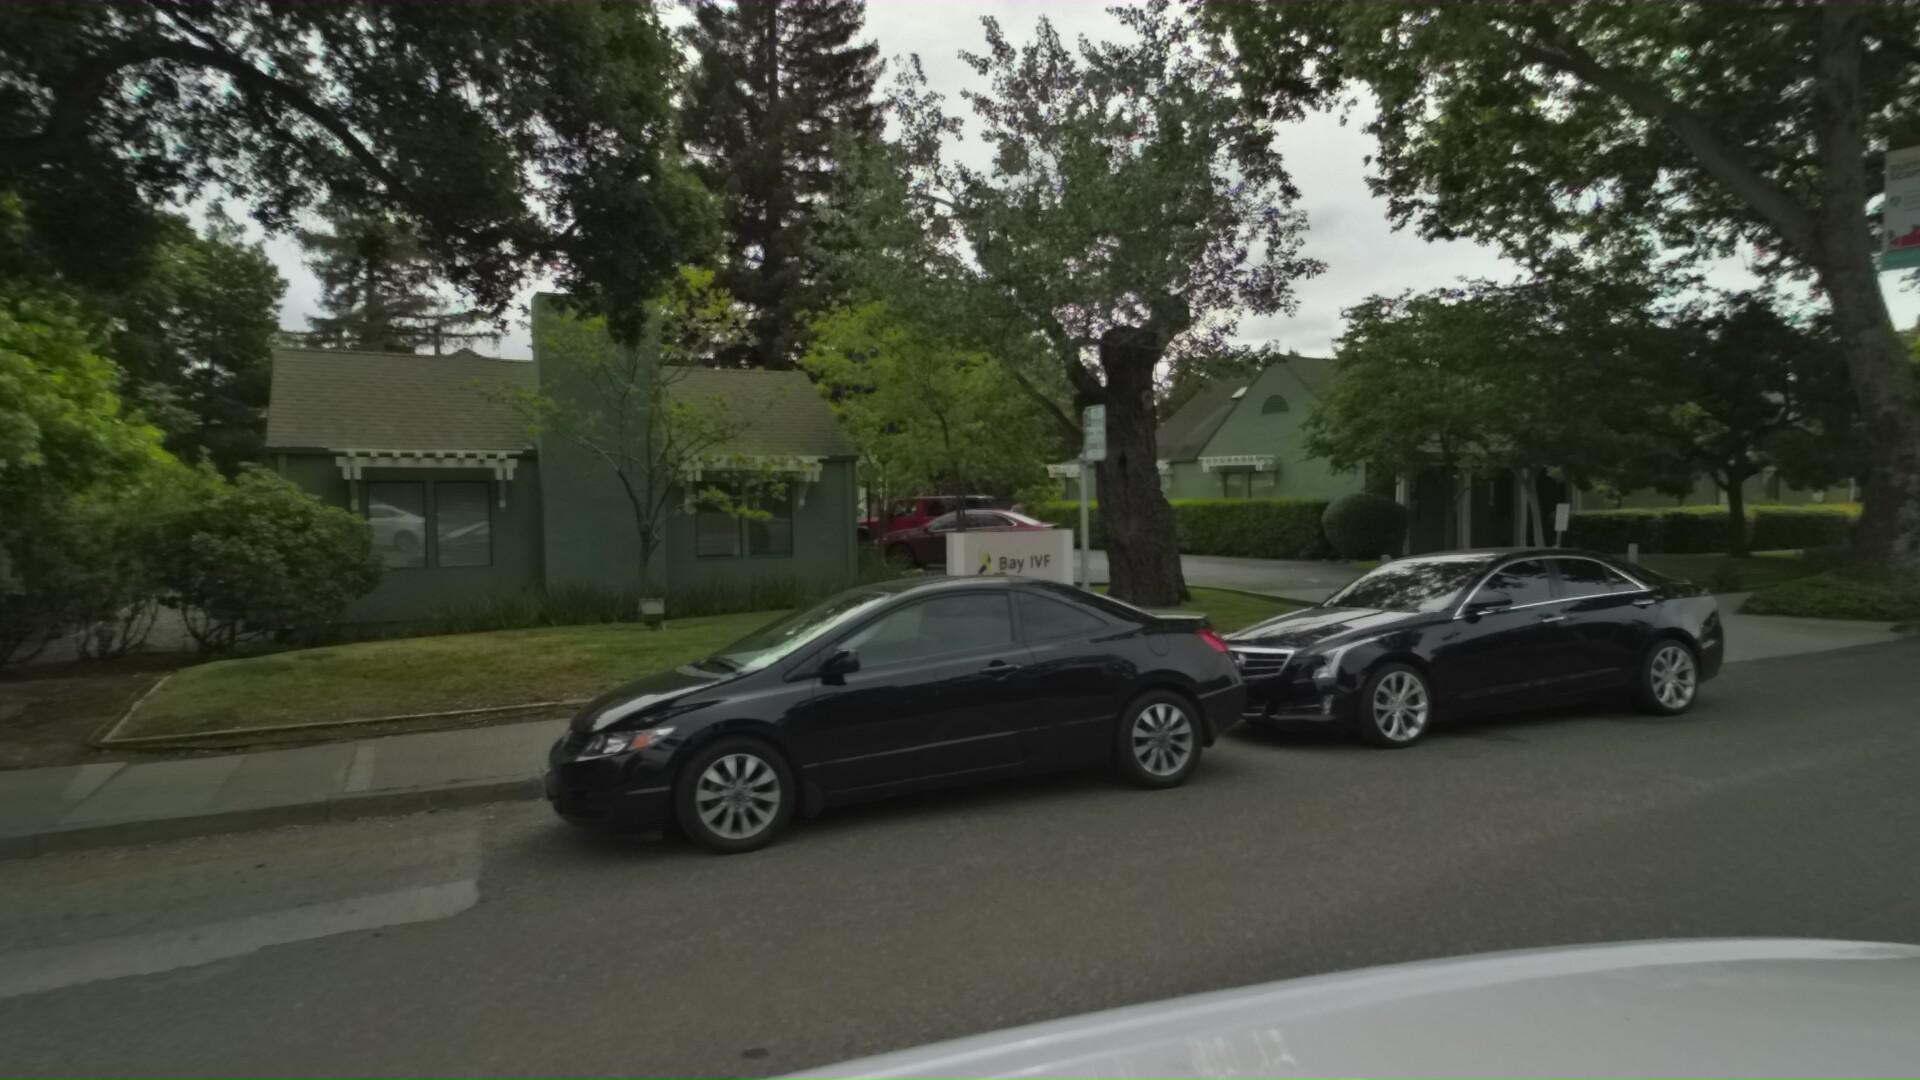car: (601, 549, 1342, 880), (1211, 526, 1796, 773)
